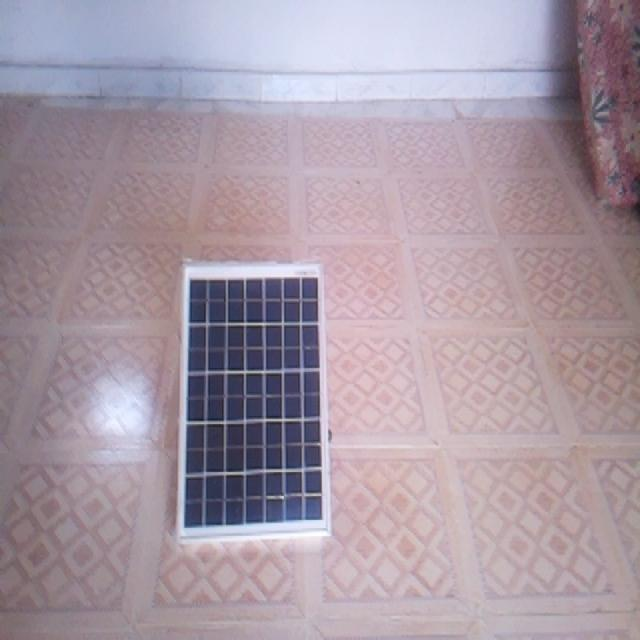Normal Solar Panel: (177, 263, 330, 539)
